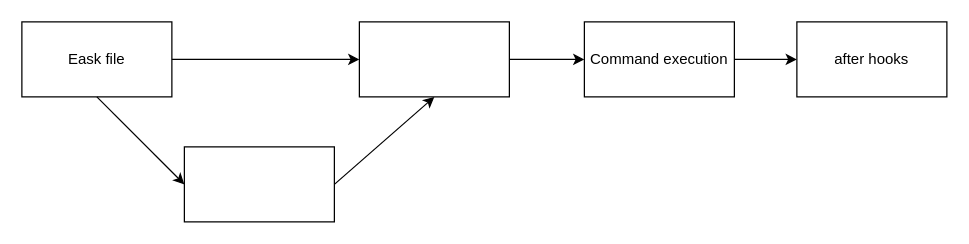
Image size: 969x244. Some labels were removed from this diagram. Each missing label, with the centre of its shape:
"before hooks" belongs at point 433,59.
"Emacs configuration" belongs at point 258,184.
